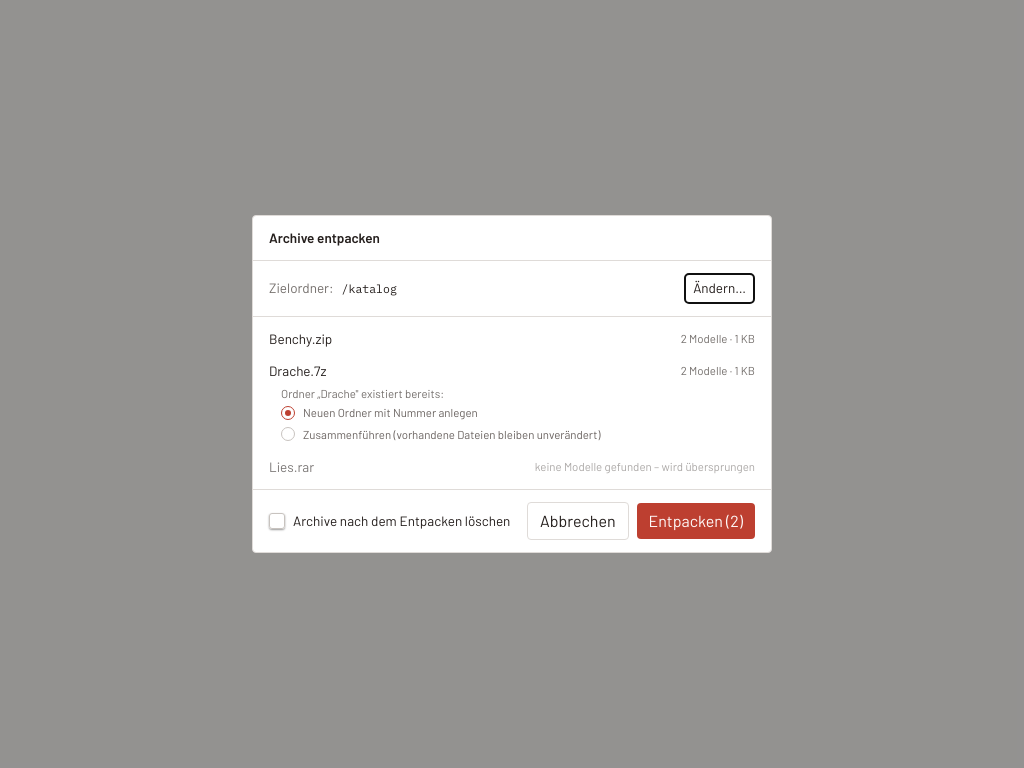
Test: ArchiveImportDialog › shows the conflict choice only for conflicting archives and re-checks after a target change
Expected: the text "Ordner „Drache\" existiert bereits:" is shown, x1=281 y1=386 x2=444 y2=400
What coordinates should you click on to do the following:
click the button "Ändern…"
I would click on:
 (720, 288)
Its box is x1=684 y1=273 x2=755 y2=304.
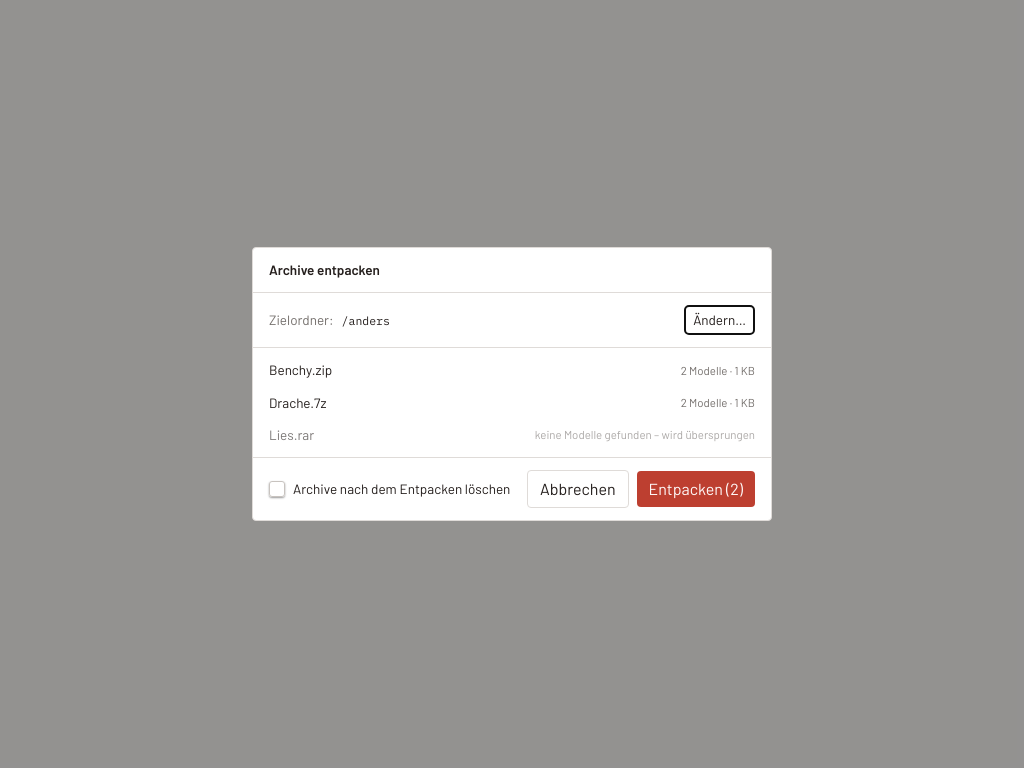
Result: the text "Ordner „Drache\" existiert bereits:" is gone
